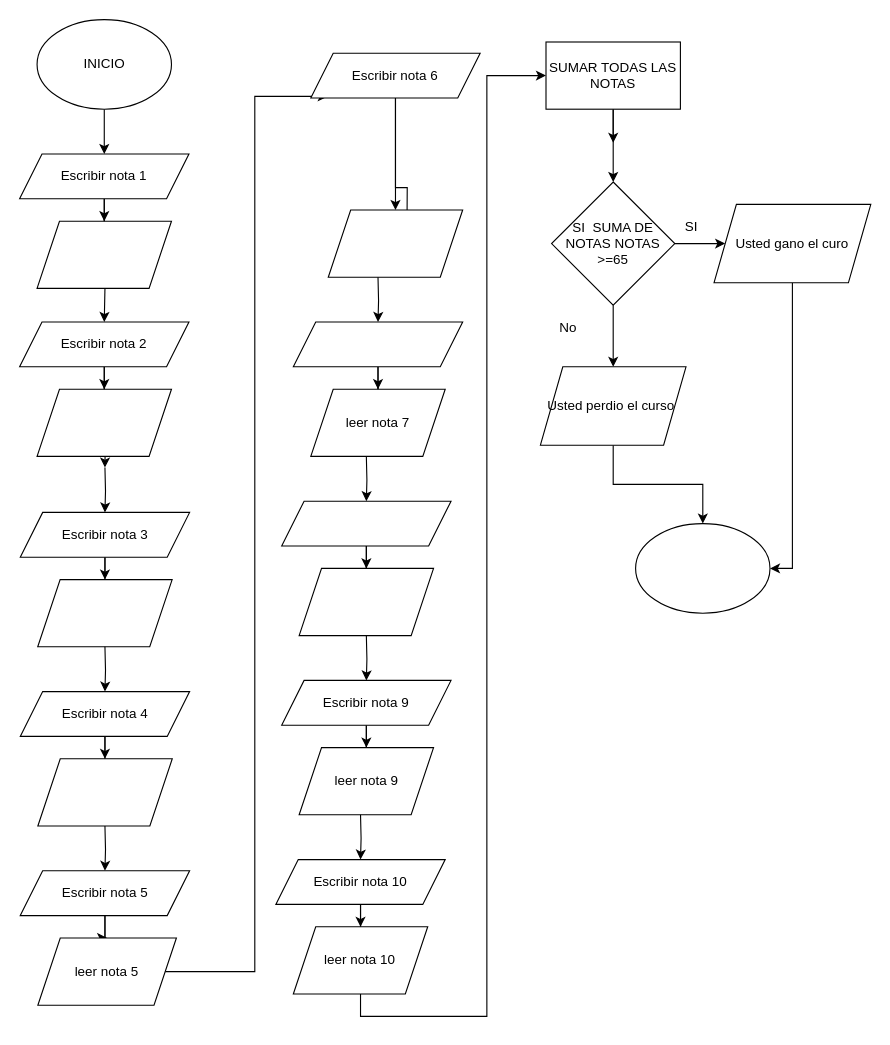
This 890x1045 diagram has some shape labels left out. Here are the shapes that lost their labels. From the top down, the centre of each, then its label:
At point 103,254: "leer nota 1".
At point 395,243: "leer nota 6".
At point 377,344: "Escribir nota 7".
At point 103,422: "leer nota 2".
At point 366,523: "Escribir nota 8".
At point 702,567: "FIN".
At point 104,612: "leer nota 3".
At point 366,601: "leer nota 8".
At point 104,792: "leer nota 4".
